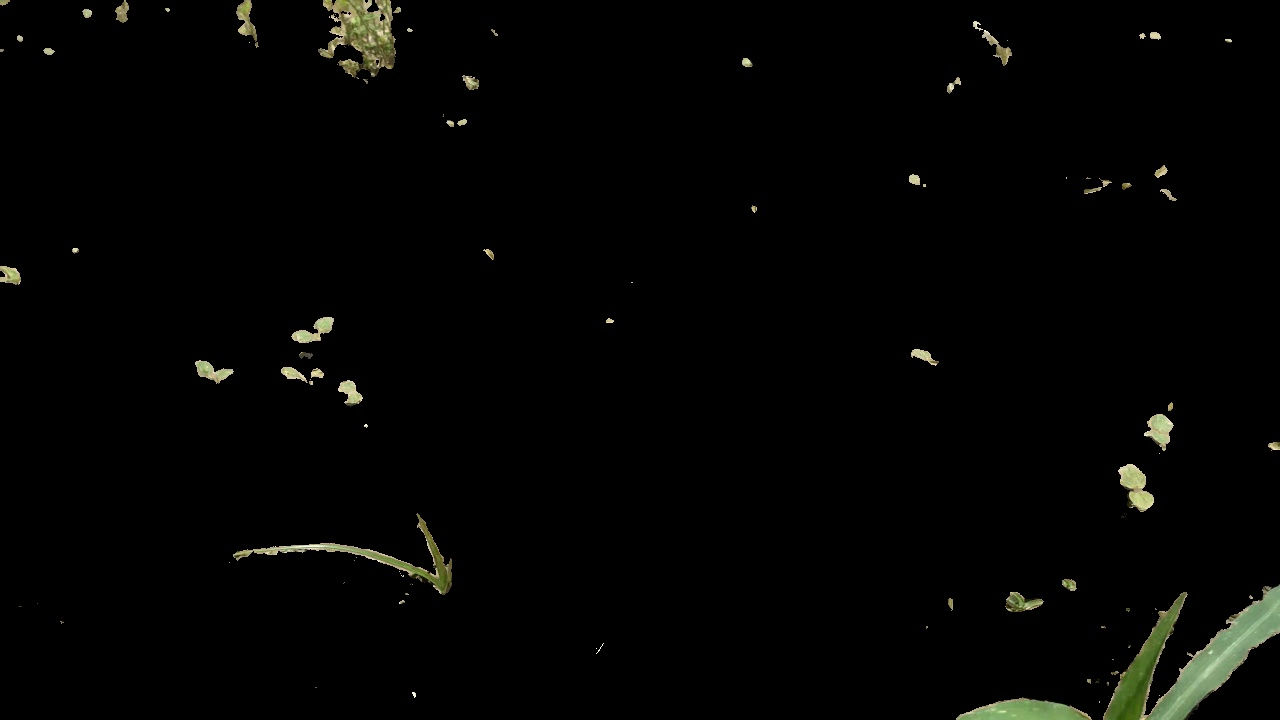crop: (951, 591, 1280, 720)
weed: (231, 505, 455, 601), (318, 1, 413, 98), (1088, 148, 1178, 209), (971, 15, 1022, 75), (1112, 459, 1156, 511), (1132, 405, 1178, 449), (226, 1, 271, 45), (290, 311, 337, 349), (186, 357, 235, 384), (999, 592, 1052, 615), (276, 367, 329, 389), (912, 342, 939, 374), (342, 379, 362, 412), (441, 118, 476, 131)
